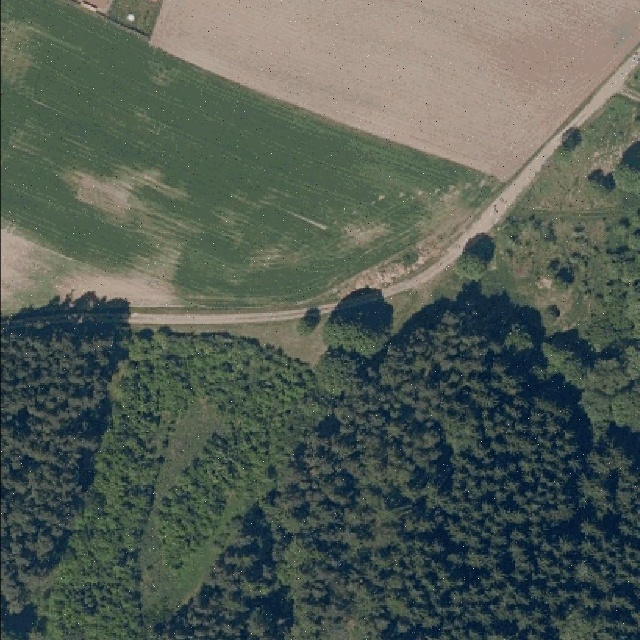vegetation: (2, 247, 639, 640)
